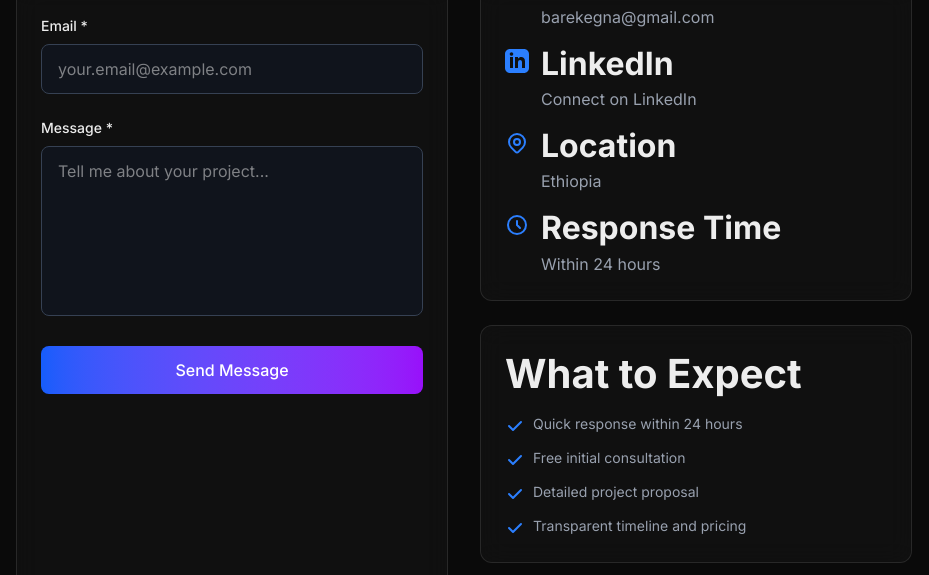
Test: Contact Form › should clear error when user starts typing
(page scrolled)
// Trigger validation error
Click the button "Send Message".
click(232, 370)  # box top-left (41, 346), bottom-right (423, 394)
(page scrolled)
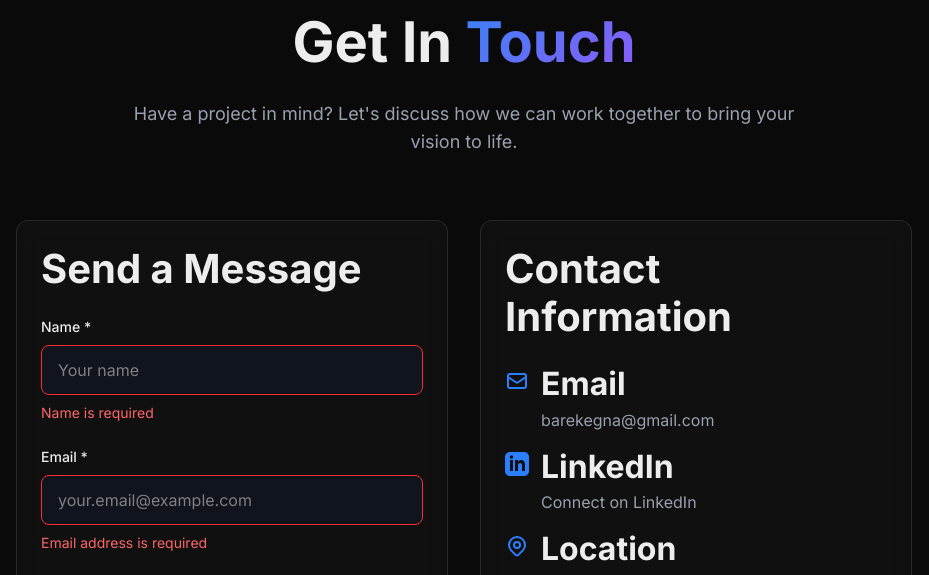
Check: the text "Name is required" is shown, box top-left (41, 404), bottom-right (154, 421)
// Start typing
Type "J" into the field labelled "Name *".
click(232, 370); type("J")  # box top-left (41, 345), bottom-right (423, 395)
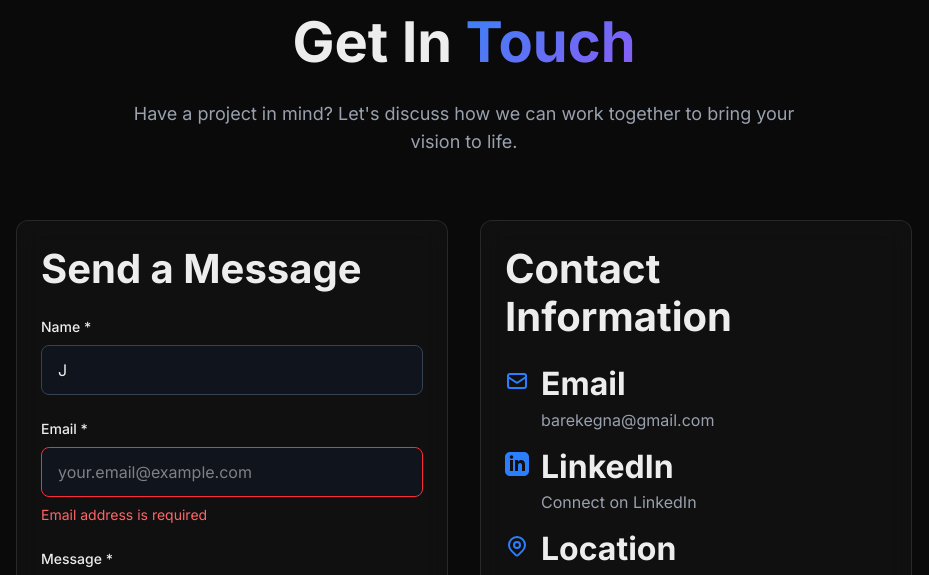
Check: the text "Name is required" is gone
